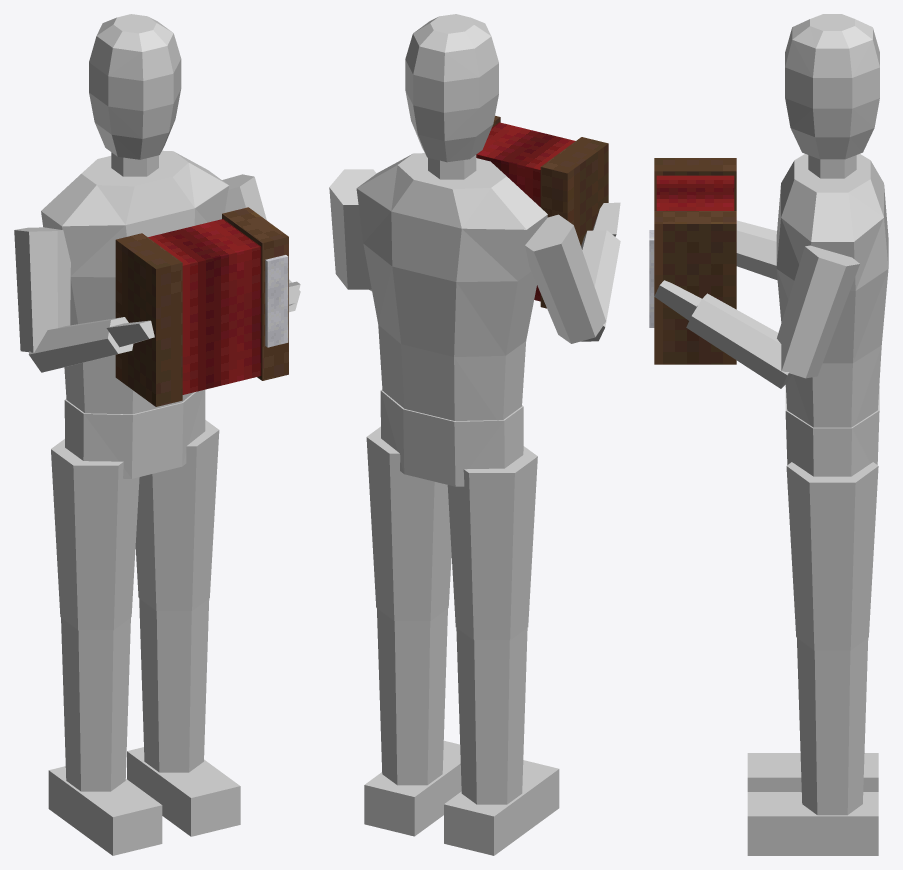
The model's file is acordeonista.obj.
3 views of the same model, side by side, from view 1: azimuth 30°, elevation 25°; view 2: azimuth 150°, elevation 25°; view 3: azimuth 270°, elevation 25° (orthographic).
Parts seen in each view (by area): view 1: acordeonista; view 2: acordeonista; view 3: acordeonista.
Part boxes in pixels (bbox=[...]): acordeonista: bbox=[14, 14, 300, 855]; acordeonista: bbox=[329, 14, 620, 855]; acordeonista: bbox=[649, 14, 888, 855].
Size of the model in its own units: 0.6242 by 1.83 by 0.4932.
Materials: 4 (3 with a texture image).
